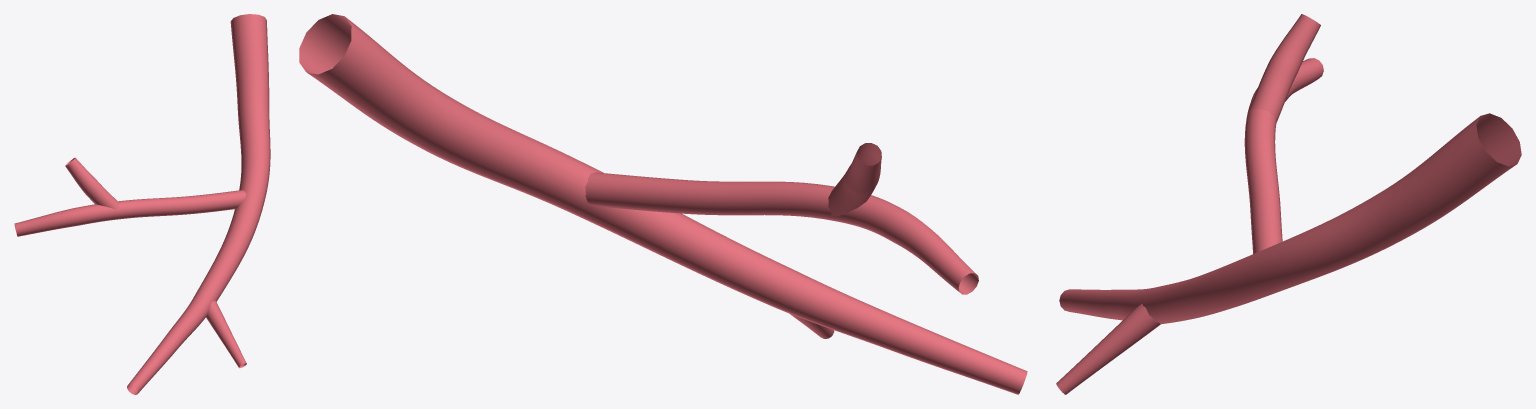
3 views of the same model, side by side, from view 1: azimuth 30°, elevation 25°; view 2: azimuth 150°, elevation 25°; view 3: azimuth 270°, elevation 25° (orthographic). The views are drawn at different scales.
Parts seen in each view (by area): view 1: ZA_21d87619a421d98a; view 2: ZA_21d87619a421d98a; view 3: ZA_21d87619a421d98a.
Boxes of the visible parts, x1=… form: ZA_21d87619a421d98a: x1=14, y1=14, x2=270, y2=394; ZA_21d87619a421d98a: x1=299, y1=14, x2=1027, y2=394; ZA_21d87619a421d98a: x1=1056, y1=14, x2=1521, y2=394.
Size of the model in its own units: 0.0776 by 0.0566 by 0.0613.
